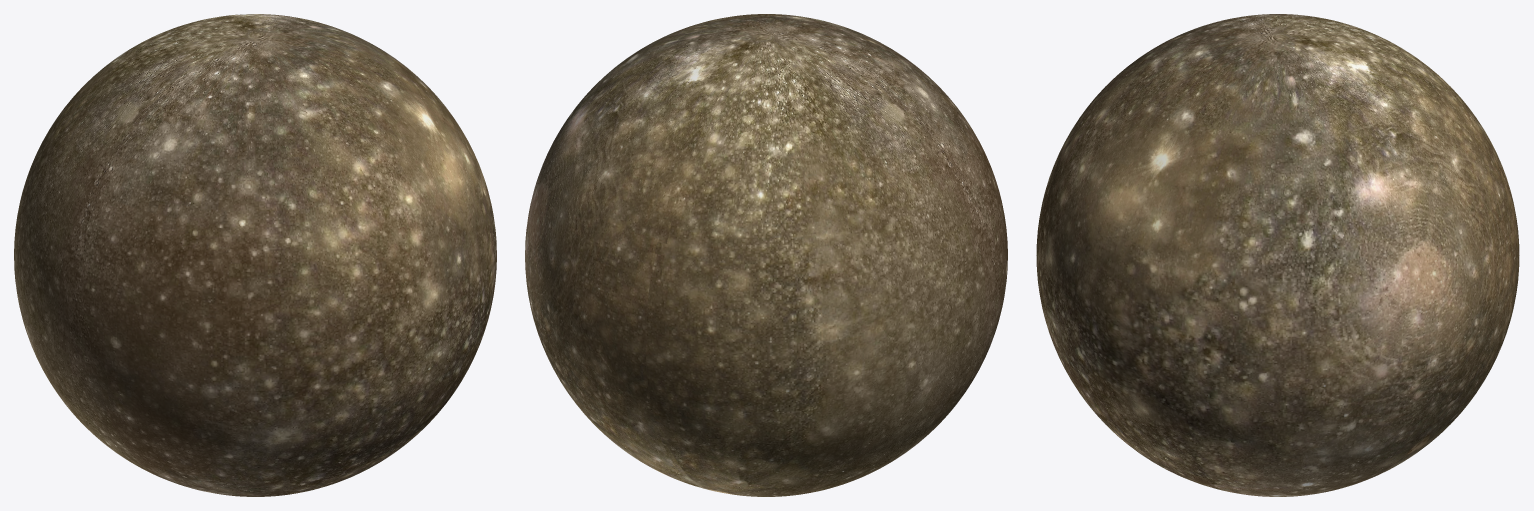
Rendered from callisto.obj.
3 views of the same model, side by side, from view 1: azimuth 30°, elevation 25°; view 2: azimuth 150°, elevation 25°; view 3: azimuth 270°, elevation 25° (orthographic).
Visible parts, largest first — view 1: earth_Sphere; view 2: earth_Sphere; view 3: earth_Sphere.
Part boxes in pixels (x1=…): earth_Sphere: x1=14, y1=14, x2=496, y2=496; earth_Sphere: x1=525, y1=14, x2=1007, y2=496; earth_Sphere: x1=1036, y1=14, x2=1519, y2=496.
Bounding box in the file's own units: 2 × 2 × 2.
Materials: 1 (1 with a texture image).
